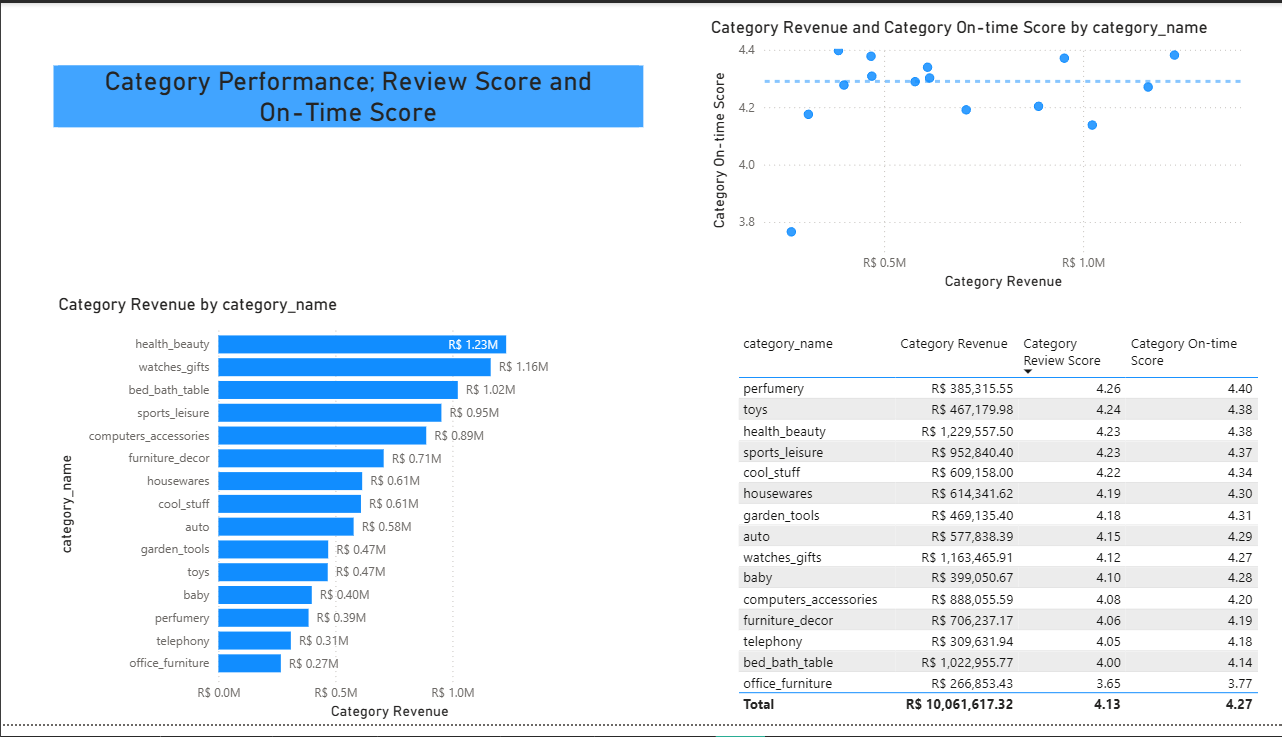

Layout of this report page (visuals, bound fields, positions):
{"tool":"powerbi","page":{"name":"Categories","canvas":[1280,720],"ordinal":2},"visuals":[{"type":"clusteredBarChart","fields":{"Category":["category_monthly.category_name"],"Y":["_Measures.Category Revenue"]},"box":[52.2,291,534.2,429.8],"z":0},{"type":"scatterChart","fields":{"X":["_Measures.Category Revenue"],"Y":["_Measures.Category On-time Score"],"Category":["category_monthly.category_name"]},"box":[704.3,13.4,562.6,277.5],"z":1},{"type":"tableEx","fields":{"Values":["category_monthly.category_name","_Measures.Category Revenue","_Measures.Category Review Score","_Measures.Category On-time Score"]},"box":[729.5,323.7,537.6,397],"z":2},{"type":"textbox","title":"Category Performance; Review Score and On-Time Score","box":[52.7,63,588.9,61.5],"z":3}]}

Visuals, with their boxes in screenshot pixels (x1, y1, x2, y2), scaled from the page's 1280x720 canvas onto the 1282x737 screenshot:
clusteredBarChart - category_monthly.category_name x _Measures.Category Revenue: box=[52, 298, 587, 736]
scatterChart - _Measures.Category Revenue x _Measures.Category On-time Score: box=[705, 14, 1269, 298]
tableEx - category_monthly.category_name x _Measures.Category Revenue: box=[731, 331, 1269, 736]
"Category Performance; Review Score and On-Time Score" textbox: box=[53, 64, 643, 127]
